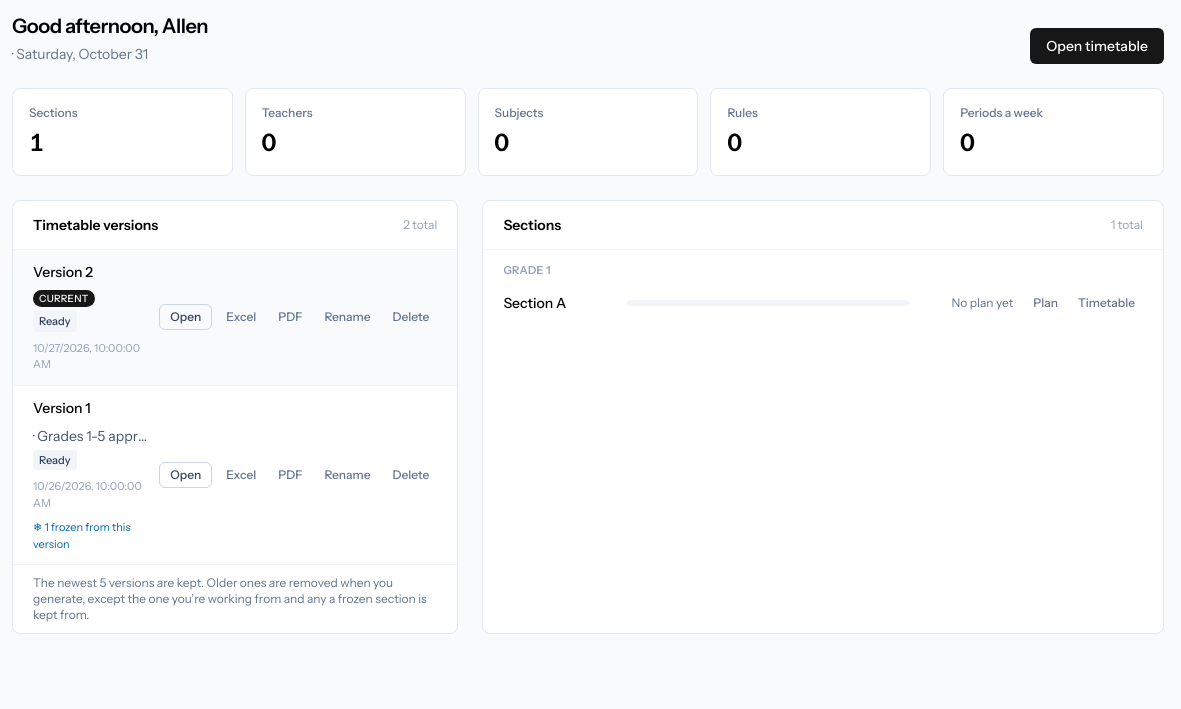
timetable versions on the Dashboard › a version sections are frozen from says so instead of deleting
expect the text "❄ 1 frozen from this version" is shown: met, box [33,519,147,552]
Click the button "Delete" in the row of "10/26/2026, 10:00:00 AM": (411, 475) [384,463,437,487]
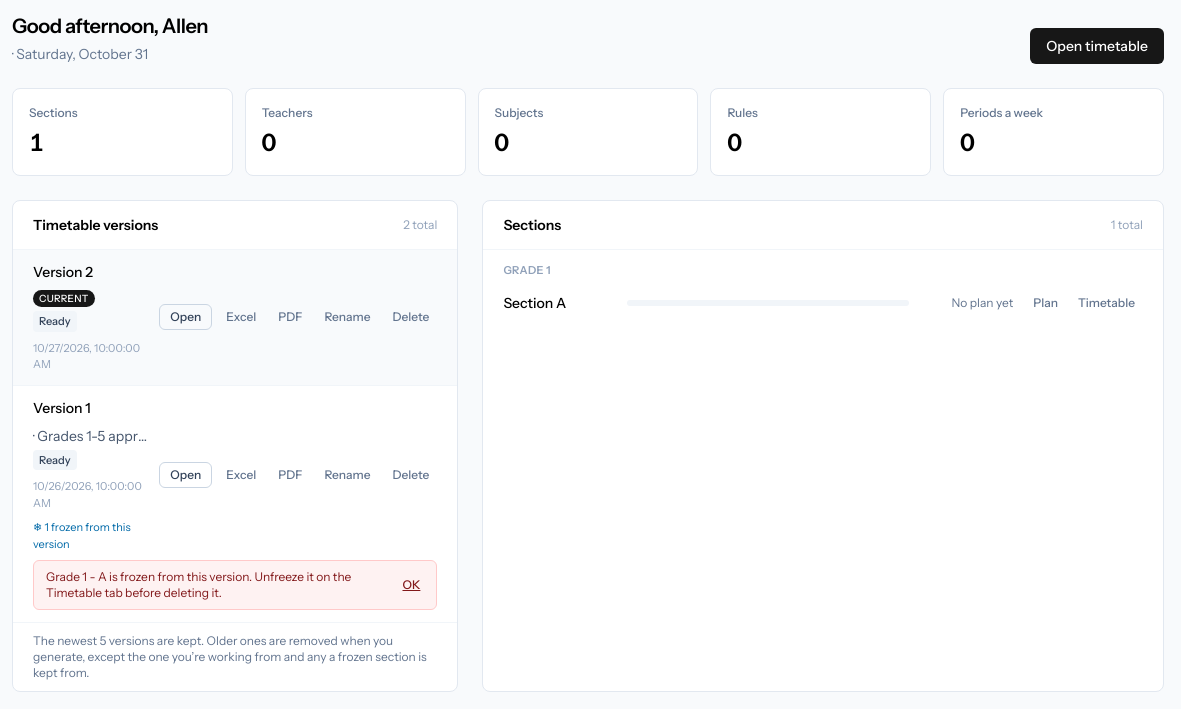
expect the text "Grade 1 - A is frozen from this version" is shown: met, box [46,569,390,601]
